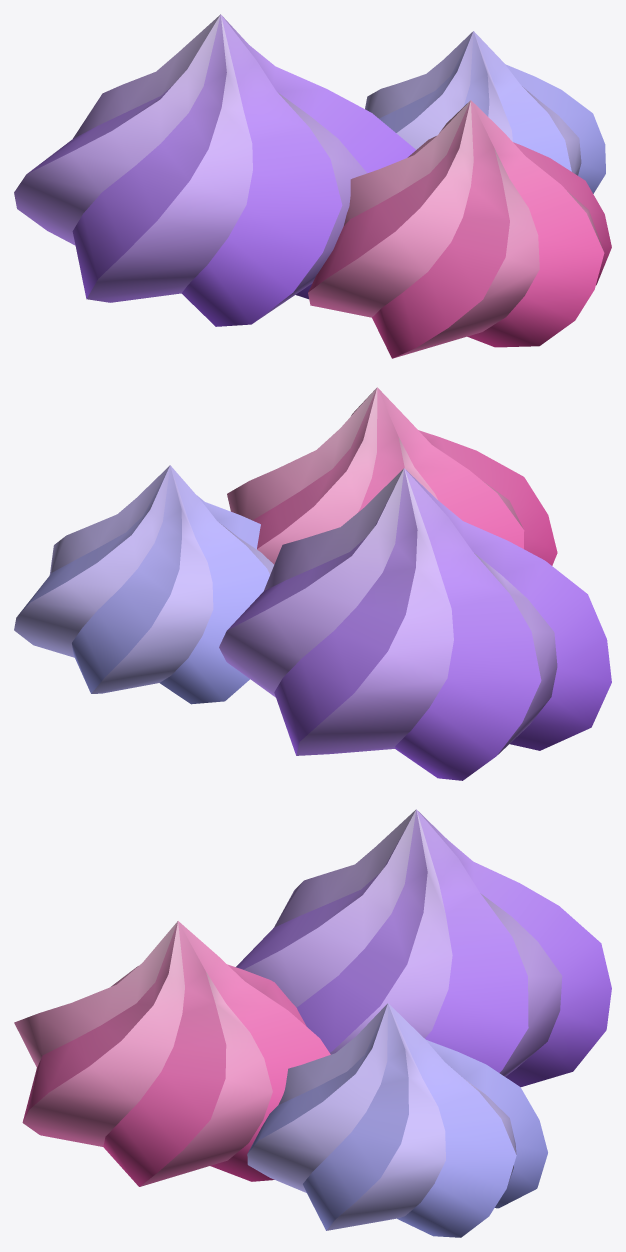
File: Cream_Triple_01.fbx
3 views of the same model, one above another, from view 1: azimuth 30°, elevation 25°; view 2: azimuth 150°, elevation 25°; view 3: azimuth 270°, elevation 25° (orthographic). The views are drawn at different scales.
Visible parts, largest first — view 1: Cream_Triple_01; view 2: Cream_Triple_01; view 3: Cream_Triple_01.
Part boxes in pixels (x1,y1,x2,y2): Cream_Triple_01: [14, 14, 611, 358]; Cream_Triple_01: [14, 387, 611, 780]; Cream_Triple_01: [14, 809, 611, 1237].
Bounding box in the file's own units: 456 × 211 × 428.
